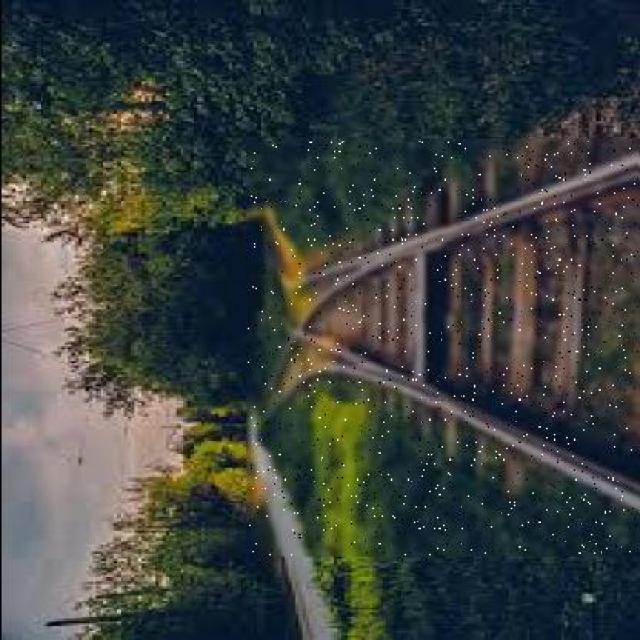rail: (245, 139, 637, 555)
